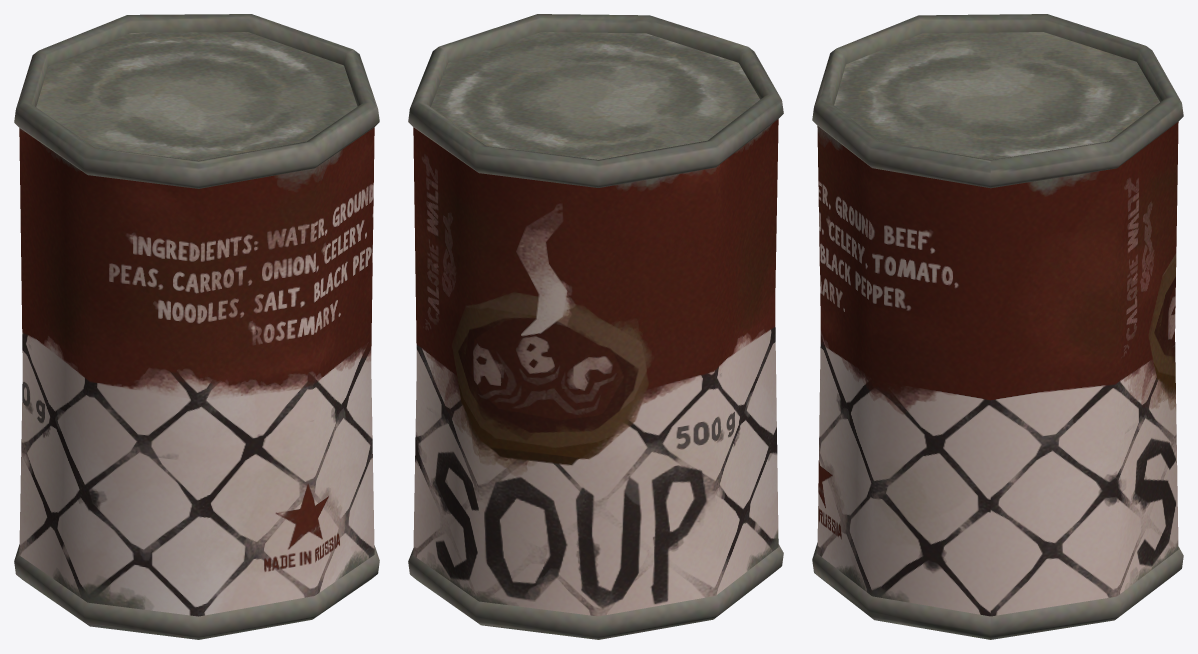
File: GEAR_ABCSoup.fbx
3 views of the same model, side by side, from view 1: azimuth 30°, elevation 25°; view 2: azimuth 150°, elevation 25°; view 3: azimuth 270°, elevation 25° (orthographic).
Visible parts, largest first — view 1: ABCSoup; view 2: ABCSoup; view 3: ABCSoup.
Part boxes in pixels (x1=…): ABCSoup: x1=14, y1=14, x2=379, y2=639; ABCSoup: x1=408, y1=14, x2=783, y2=639; ABCSoup: x1=812, y1=14, x2=1183, y2=639.
Bounding box in the file's own units: 10.84 × 10.97 × 15.58.
1 material, 1 textured.
